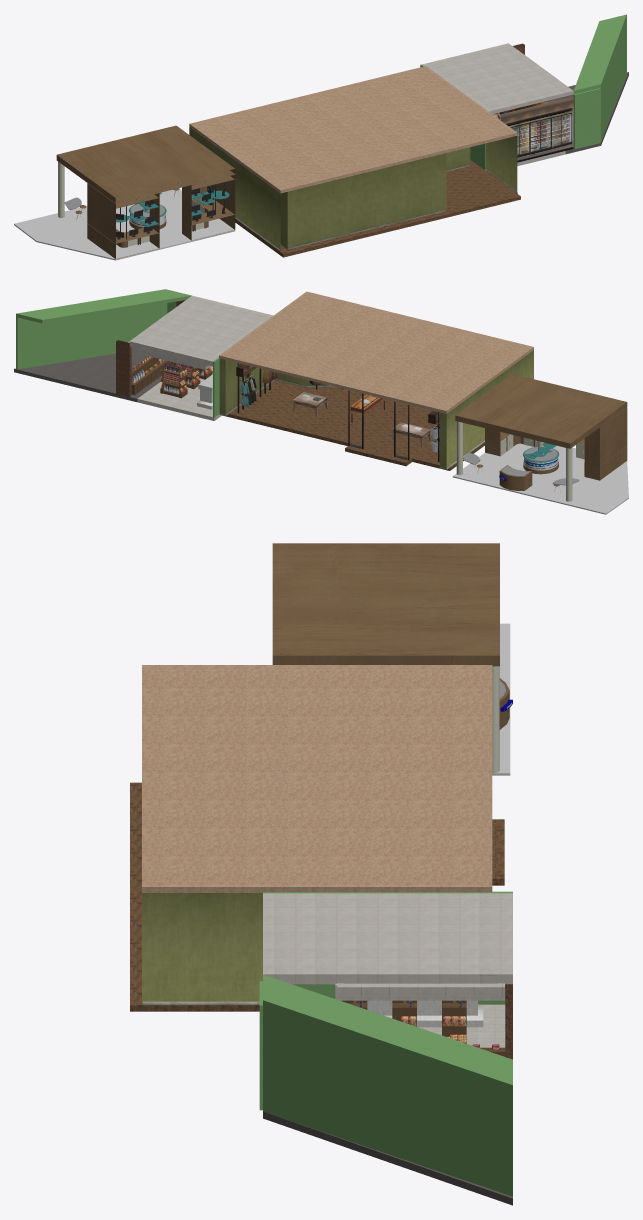
The model's file is gzl_suiyuandasha_01_shop.FBX.
The picture shows the model from 3 angles, top to bottom: view 1: azimuth 30°, elevation 25°; view 2: azimuth 150°, elevation 25°; view 3: azimuth 270°, elevation 25°; orthographic projection. The views are drawn at different scales.
Visible parts, largest first — view 1: gzl_suiyuandasha_01_shop_26, gzl_suiyuandasha_01_shop_25, gzl_suiyuandasha_01_shop_31, gzl_suiyuandasha_01_shop_03, gzl_suiyuandasha_01_shop_05, gzl_suiyuandasha_01_shop_30, gzl_suiyuandasha_01_shop_24, gzl_suiyuandasha_01_shop_07, gzl_suiyuandasha_01_shop_09, gzl_suiyuandasha_01_shop_23, gzl_suiyuandasha_01_shop_22, gzl_suiyuandasha_01_shop_04; view 2: gzl_suiyuandasha_01_shop_26, gzl_suiyuandasha_01_shop_31, gzl_suiyuandasha_01_shop_24, gzl_suiyuandasha_01_shop_05, gzl_suiyuandasha_01_shop_03, gzl_suiyuandasha_01_shop_30, gzl_suiyuandasha_01_shop_25, gzl_suiyuandasha_01_shop_04, gzl_suiyuandasha_01_shop_28, gzl_suiyuandasha_01_shop_02, gzl_suiyuandasha_01_shop_23, gzl_suiyuandasha_01_shop_07 (+5 smaller); view 3: gzl_suiyuandasha_01_shop_26, gzl_suiyuandasha_01_shop_05, gzl_suiyuandasha_01_shop_31, gzl_suiyuandasha_01_shop_03, gzl_suiyuandasha_01_shop_25, gzl_suiyuandasha_01_shop_24, gzl_suiyuandasha_01_shop_04, gzl_suiyuandasha_01_shop_01, gzl_suiyuandasha_01_shop_02, gzl_suiyuandasha_01_shop_30.
Boxes of the visible parts, x1,y1,x2,y2 form: gzl_suiyuandasha_01_shop_26: (189, 66, 517, 193); gzl_suiyuandasha_01_shop_25: (189, 127, 517, 251); gzl_suiyuandasha_01_shop_31: (56, 125, 235, 258); gzl_suiyuandasha_01_shop_03: (422, 43, 573, 170); gzl_suiyuandasha_01_shop_05: (420, 14, 626, 170); gzl_suiyuandasha_01_shop_30: (14, 189, 235, 260); gzl_suiyuandasha_01_shop_24: (235, 160, 520, 257); gzl_suiyuandasha_01_shop_07: (130, 94, 573, 226); gzl_suiyuandasha_01_shop_09: (116, 182, 225, 239); gzl_suiyuandasha_01_shop_23: (58, 161, 204, 246); gzl_suiyuandasha_01_shop_22: (116, 190, 229, 226); gzl_suiyuandasha_01_shop_04: (565, 72, 628, 154); gzl_suiyuandasha_01_shop_26: (219, 291, 533, 413); gzl_suiyuandasha_01_shop_31: (455, 374, 627, 490); gzl_suiyuandasha_01_shop_24: (222, 380, 484, 470); gzl_suiyuandasha_01_shop_05: (16, 289, 219, 417); gzl_suiyuandasha_01_shop_03: (128, 295, 273, 420); gzl_suiyuandasha_01_shop_30: (452, 443, 628, 514); gzl_suiyuandasha_01_shop_25: (219, 350, 533, 469); gzl_suiyuandasha_01_shop_04: (14, 352, 162, 401); gzl_suiyuandasha_01_shop_28: (236, 363, 439, 461); gzl_suiyuandasha_01_shop_02: (131, 357, 212, 398); gzl_suiyuandasha_01_shop_23: (456, 421, 584, 501); gzl_suiyuandasha_01_shop_07: (132, 356, 558, 480); gzl_suiyuandasha_01_shop_26: (142, 665, 492, 892); gzl_suiyuandasha_01_shop_05: (259, 891, 512, 1196); gzl_suiyuandasha_01_shop_31: (272, 543, 509, 729); gzl_suiyuandasha_01_shop_03: (263, 893, 512, 1047); gzl_suiyuandasha_01_shop_25: (142, 893, 262, 1005); gzl_suiyuandasha_01_shop_24: (130, 782, 504, 1011); gzl_suiyuandasha_01_shop_04: (263, 1111, 512, 1205); gzl_suiyuandasha_01_shop_01: (367, 1000, 483, 1027); gzl_suiyuandasha_01_shop_02: (342, 1000, 505, 1056); gzl_suiyuandasha_01_shop_30: (492, 623, 510, 775).
Bounding box in the file's own units: 54727 × 5491 × 15327.
